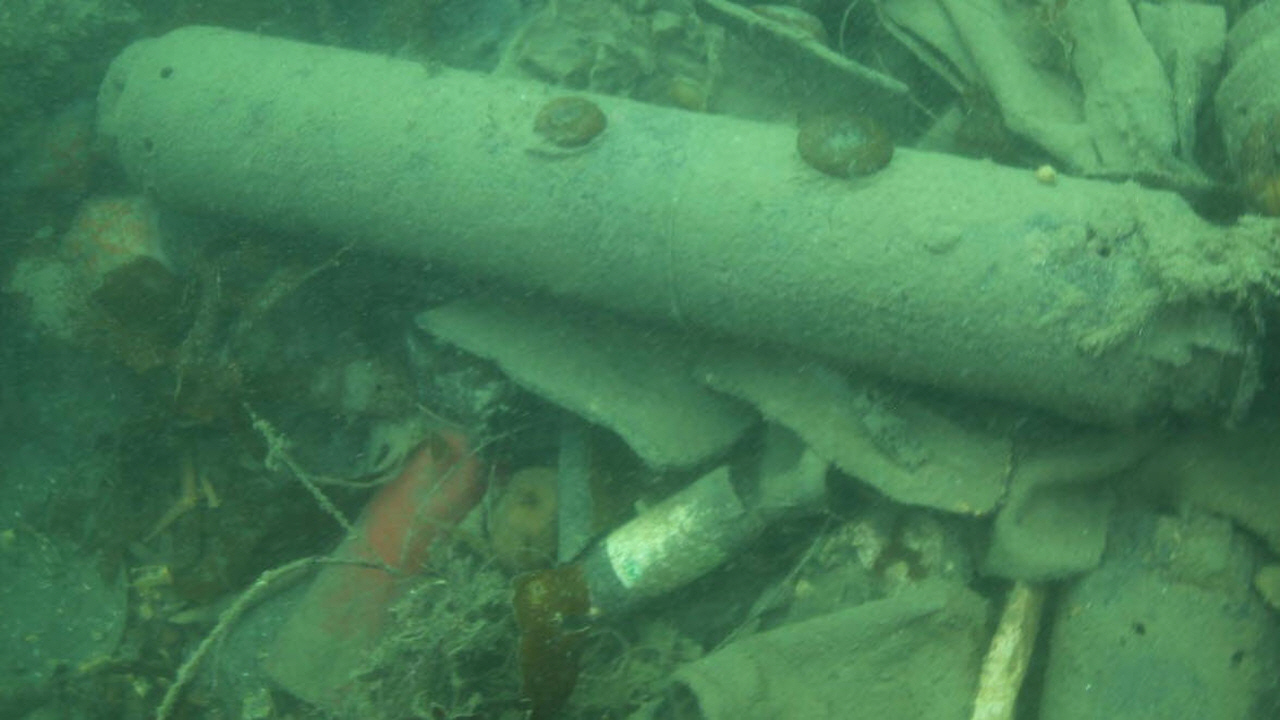eel fish trap: (95, 22, 1263, 418)
